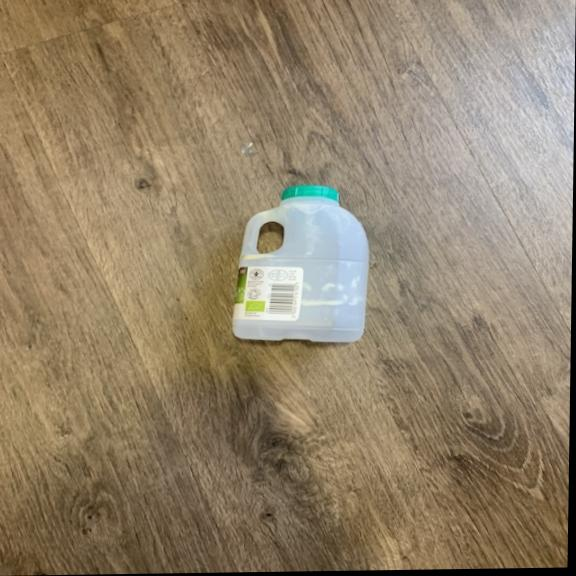Plastik: (229, 182, 375, 345)
